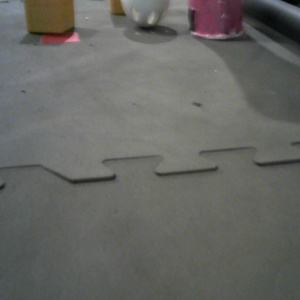right: (191, 1, 245, 40)
